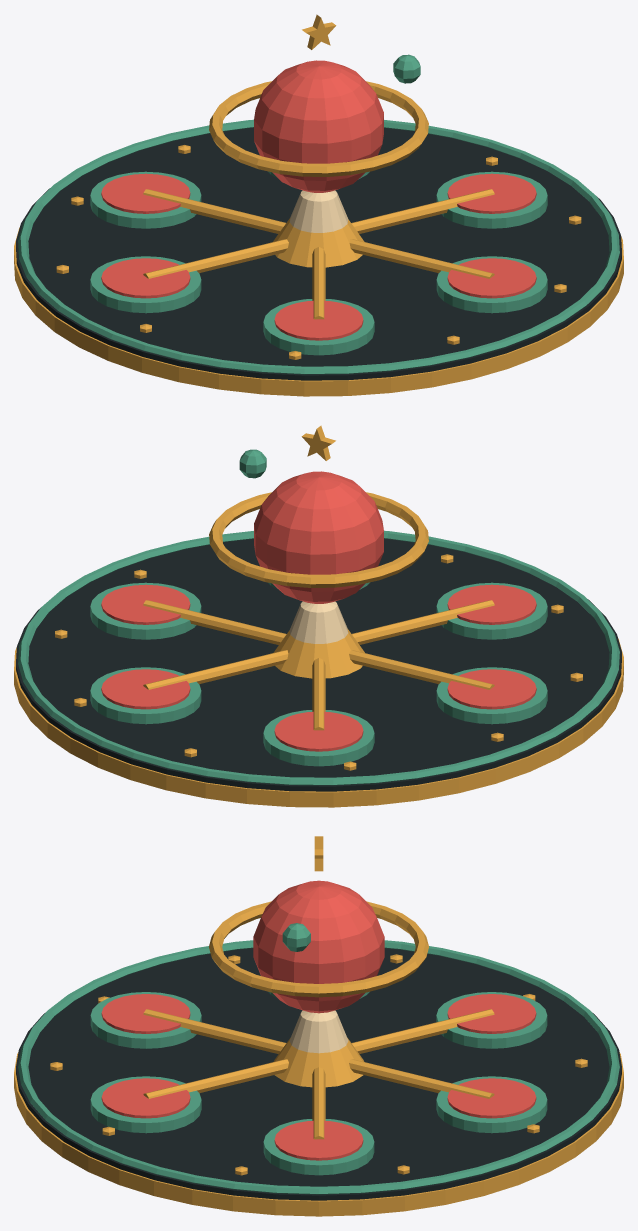
File: ParkParkOrbitHub.obj
The picture shows the model from 3 angles, top to bottom: view 1: azimuth 30°, elevation 25°; view 2: azimuth 150°, elevation 25°; view 3: azimuth 270°, elevation 25°; orthographic projection.
Parts seen in each view (by area): view 1: ParkParkOrbitHub; view 2: ParkParkOrbitHub; view 3: ParkParkOrbitHub.
Boxes of the visible parts, bbox=[...] form: ParkParkOrbitHub: bbox=[14, 14, 623, 396]; ParkParkOrbitHub: bbox=[14, 425, 623, 807]; ParkParkOrbitHub: bbox=[14, 836, 623, 1216].
Size of the model in its own units: 16.5 by 7.5 by 16.5.
